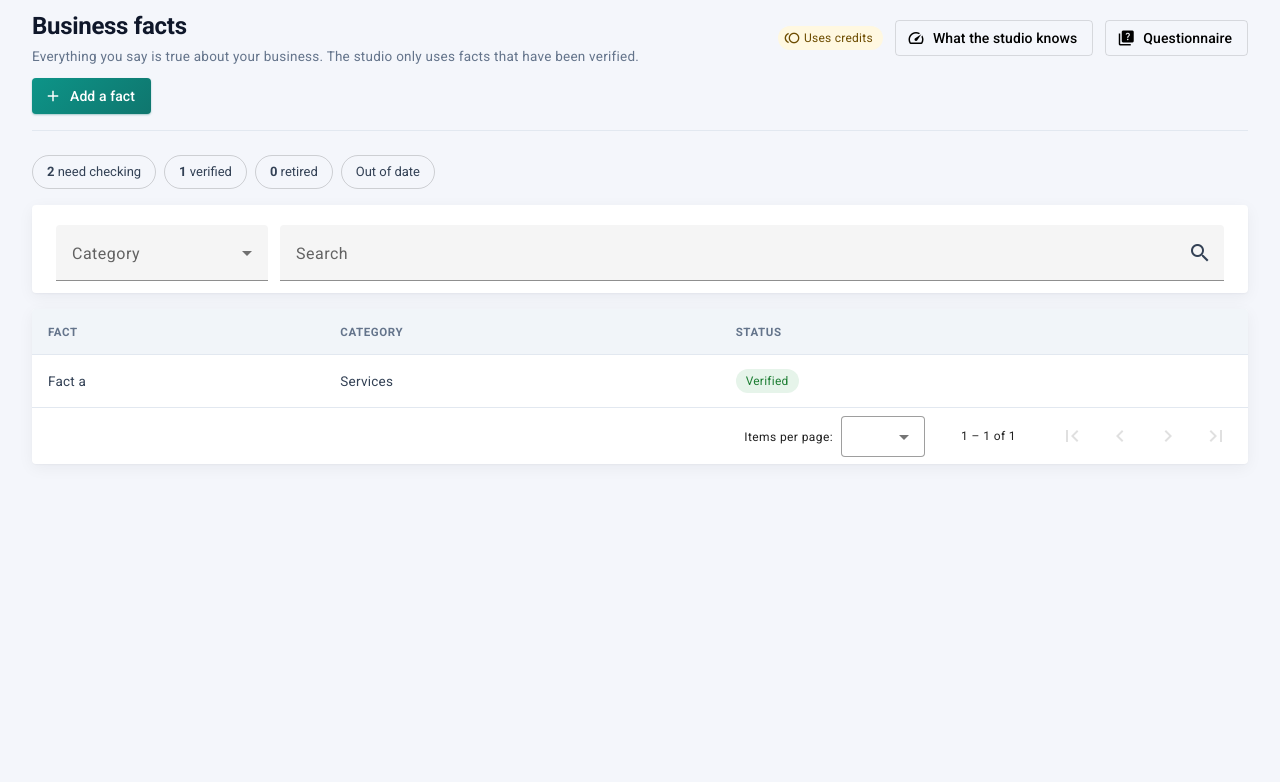
Test: StudioFactsComponent › knowledge › shows the fact's history in place, newest first, with the reason for each change
Click the row with class "fact-row". click: x=67, y=381
box: [32, 355, 1248, 407]
(page scrolled)
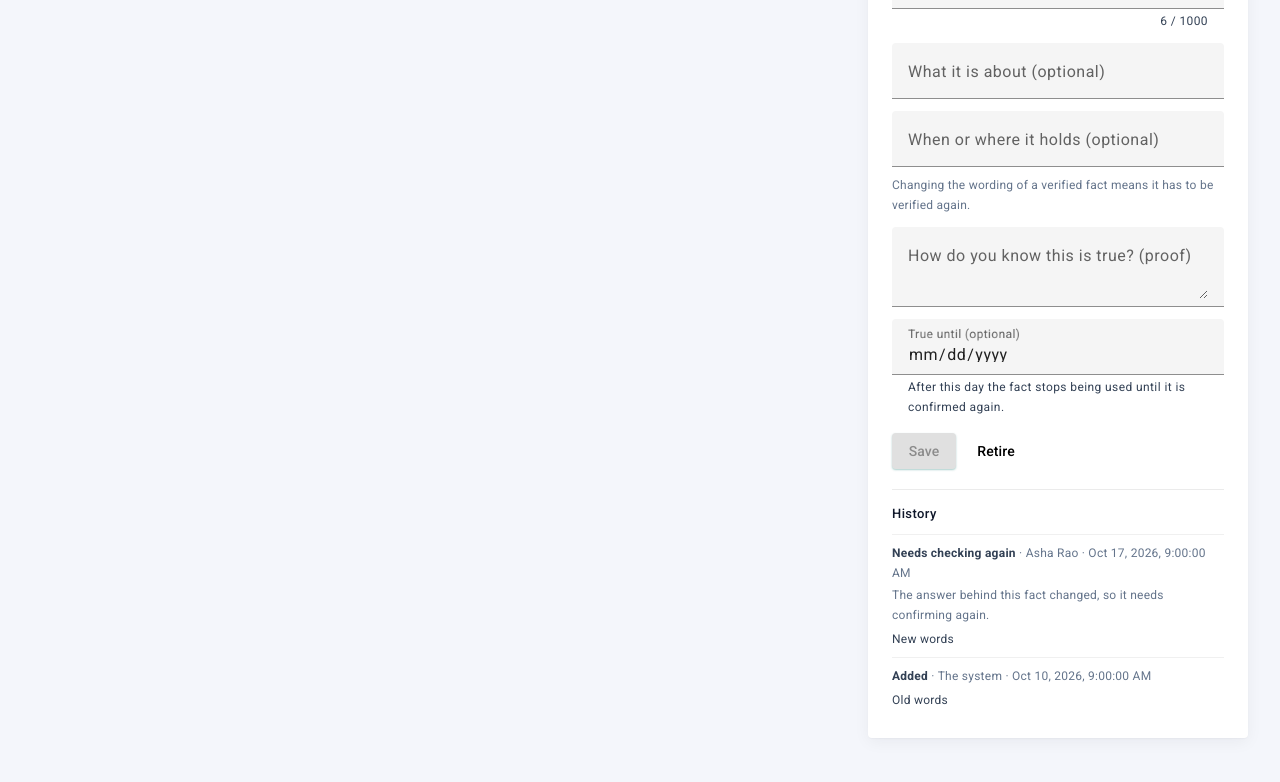
Expected: the list item that starts with "Needs checking again" is shown, [892, 546, 1016, 560]
Expected: the list item that starts with "Needs checking again" shows "Asha Rao", [892, 546, 1206, 580]
Expected: the list item that starts with "Needs checking again" shows "needs confirming again", [892, 588, 1164, 622]
